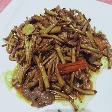chashugu: (1, 4, 112, 111)
